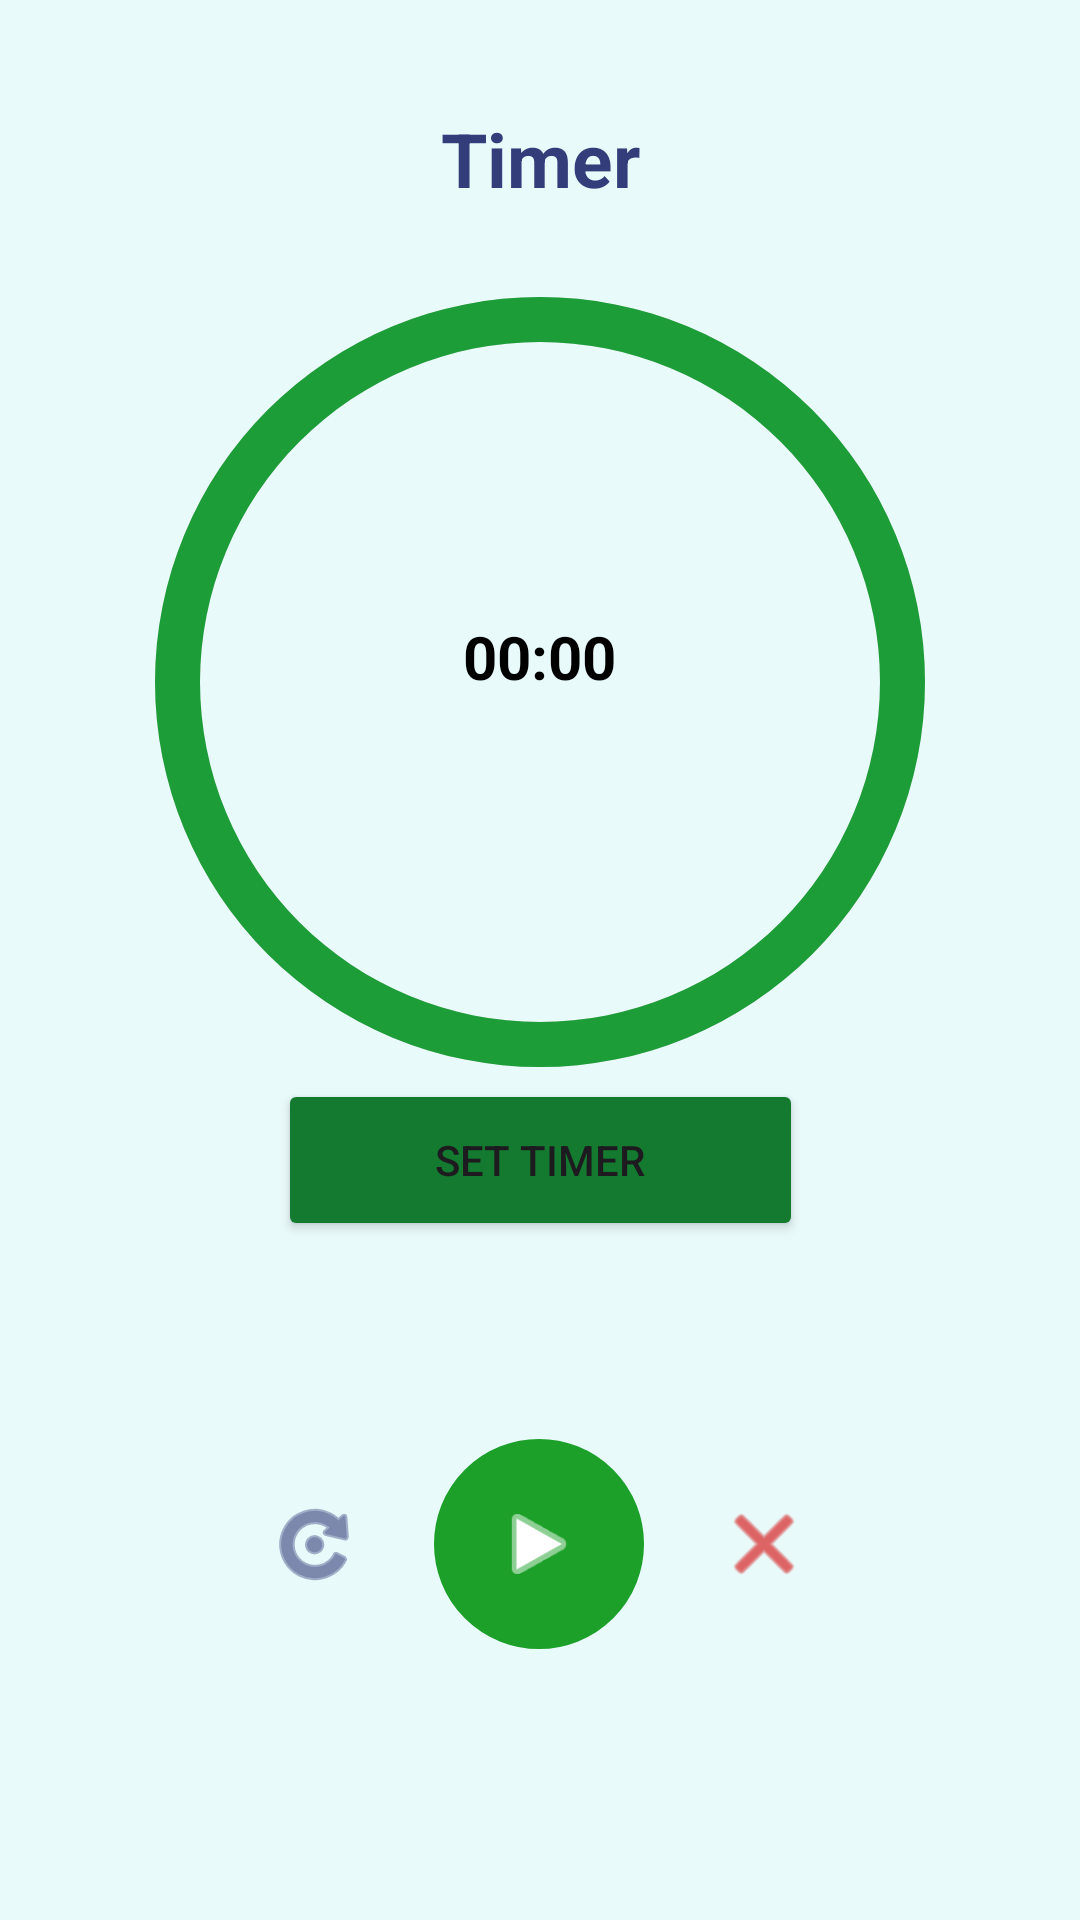

Named icons in this screenshot (1080 × 1920) and their bounding boxes, (x1, y1, x2, y2):
Cancel: (734, 1514, 794, 1574)
Reset Time: (279, 1509, 349, 1580)
